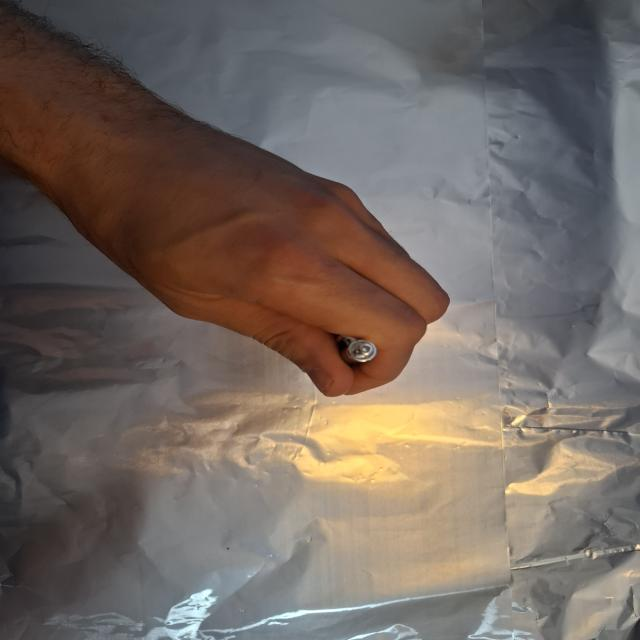glove_off: (68, 121, 453, 398)
